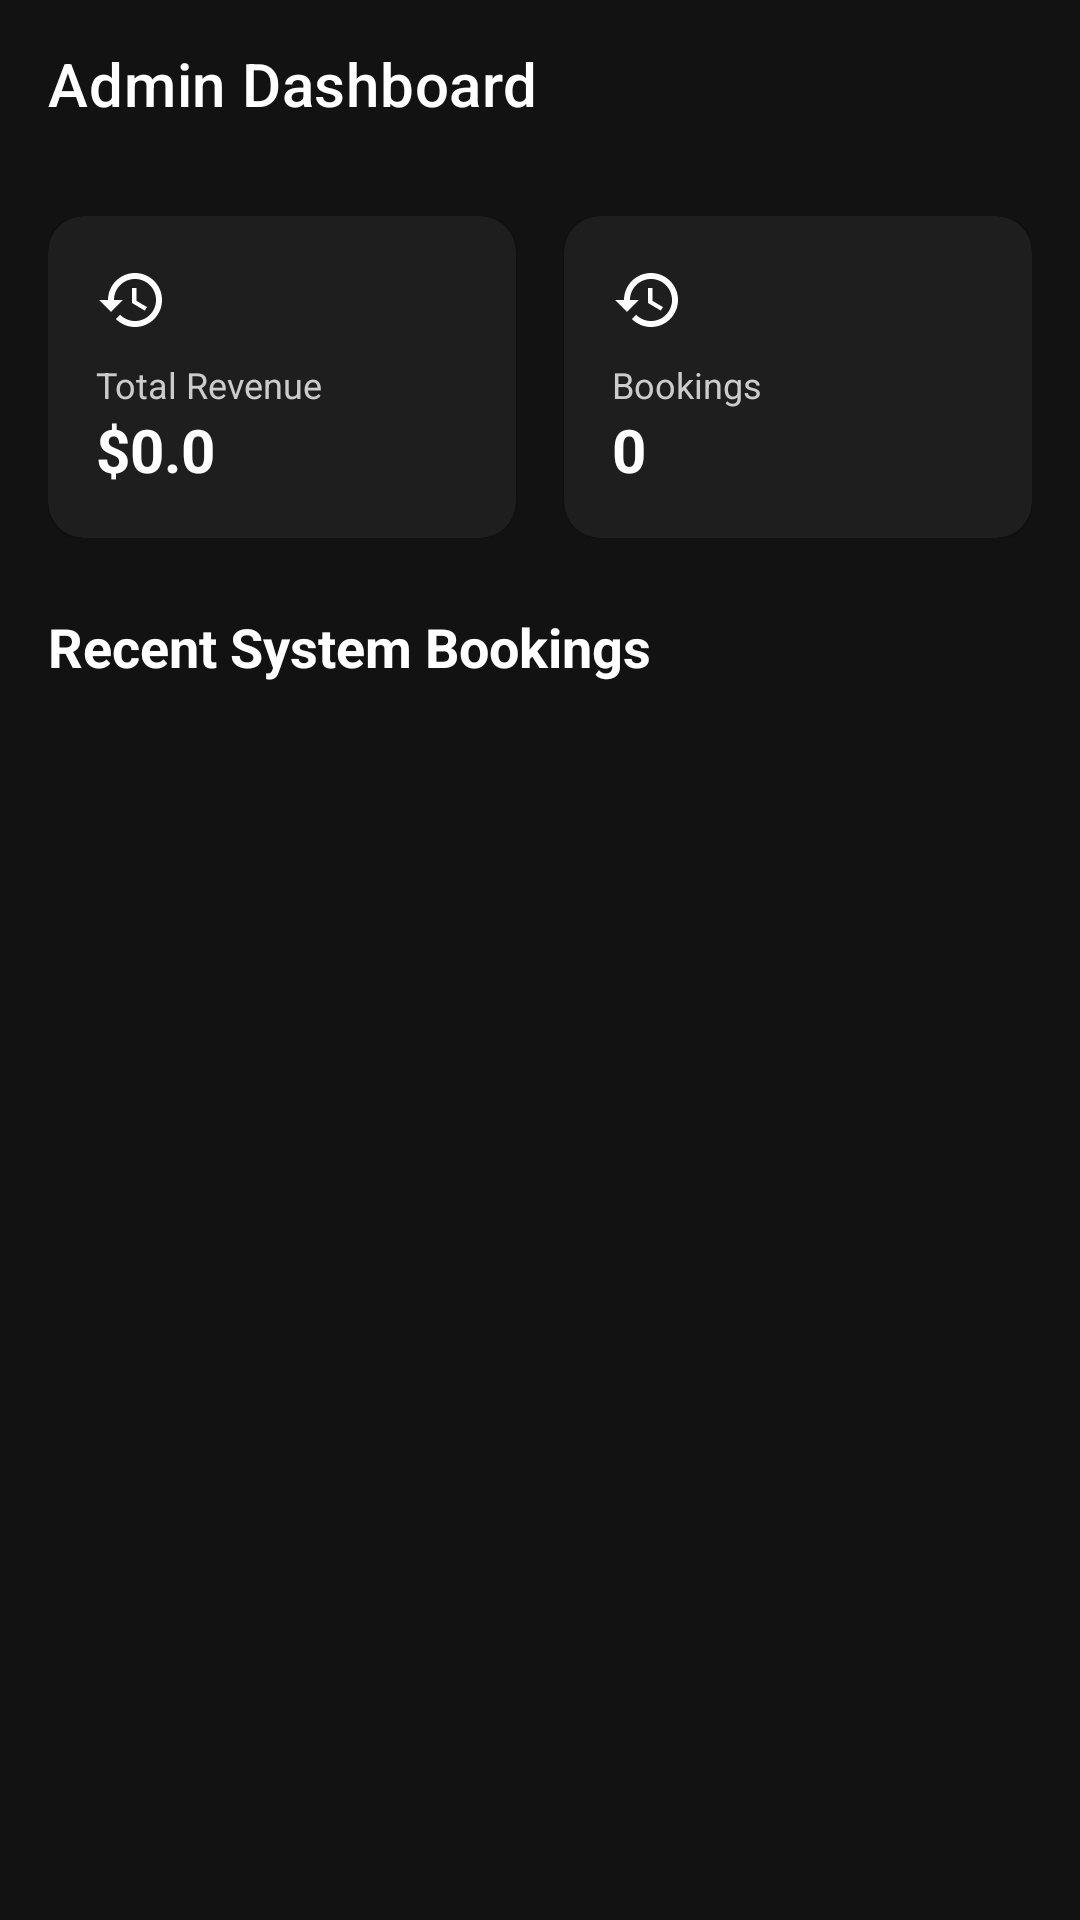

Screen size 1080*1920. Icon name, then its box in pixels as (x1, y1, x2, y2):
history: (99, 273, 162, 327), (615, 273, 678, 327)
